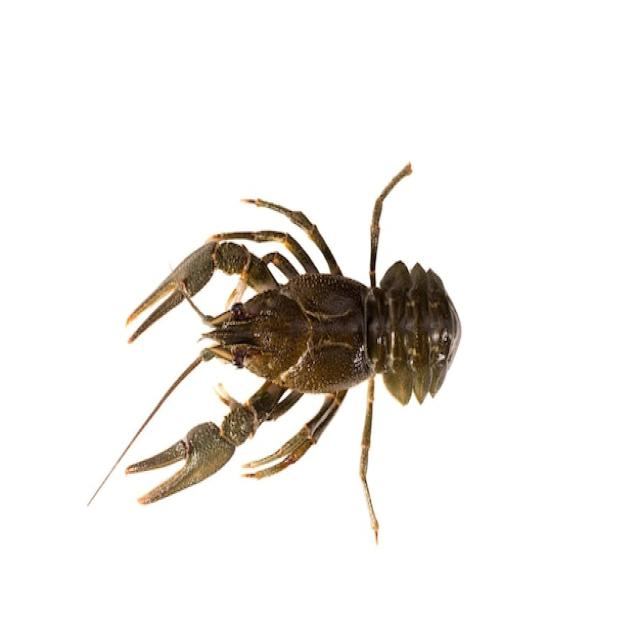Crawfish: (128, 169, 460, 503)
